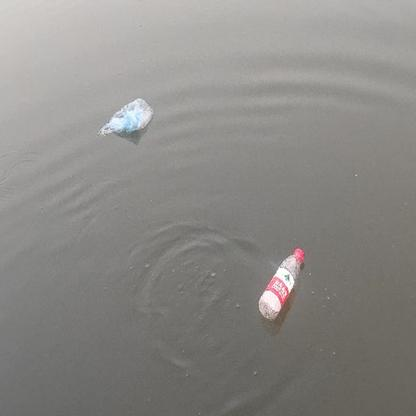plastic bag: (97, 98, 154, 140)
plastic bottle: (259, 247, 304, 319)
